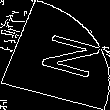N_W: (17, 28, 93, 82)
